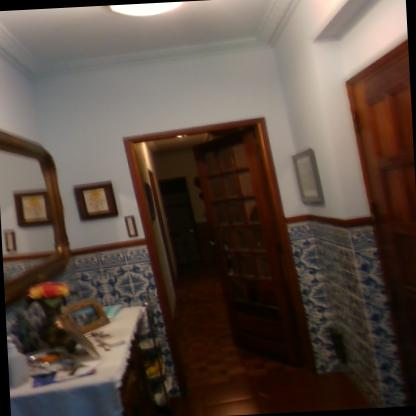open: (105, 93, 306, 402)
